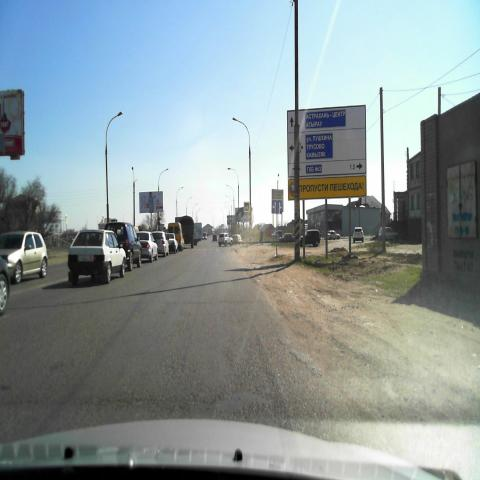5_15_2_2: (271, 199, 282, 215)
